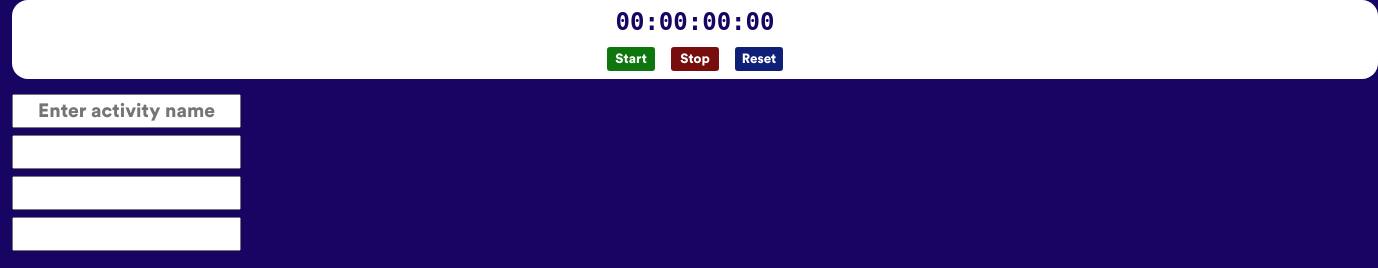
Test: <Stopwatch /> › stopwatch runs
Expected: the text with test id "elapsed" reads "00:00:00:00", [616,8,775,36]
Click the button with test id "start" at point(631, 59), box [607,47,655,71]
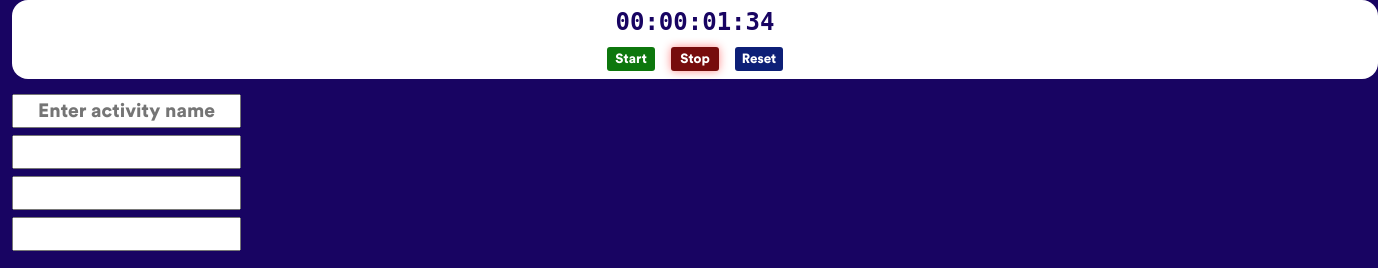
Expected: the text with test id "elapsed" no longer shows "00:00:00:00"
Double-click the button with test id "stop" at point(695, 59), box [671,47,719,71]
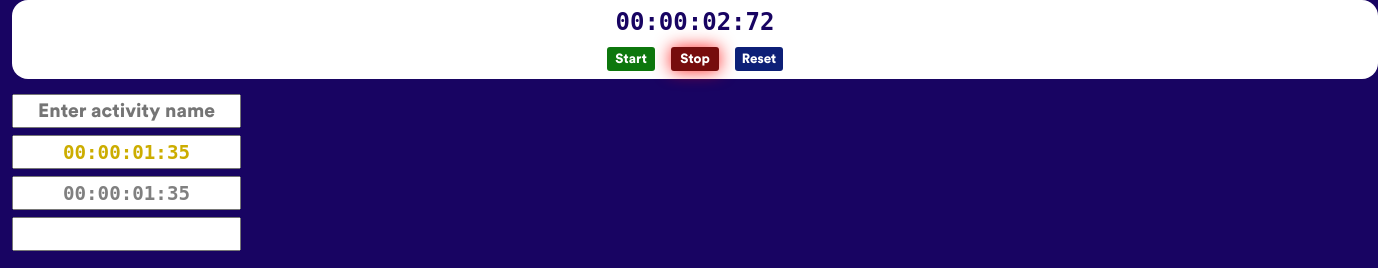
Click the button with test id "stop" at point(695, 59), box [671,47,719,71]
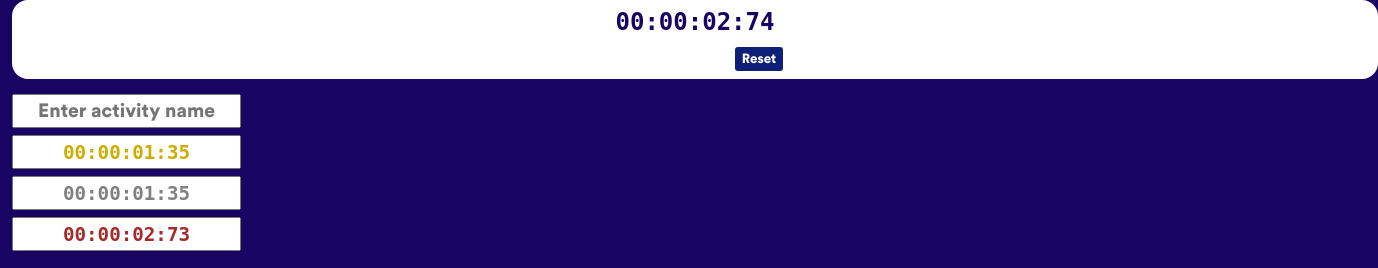
Click the button with test id "reset" at point(759, 59), box [735,47,783,71]
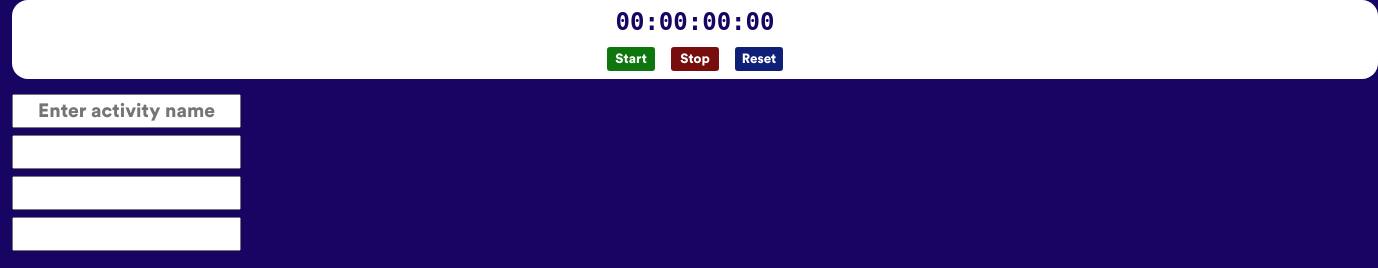
Expected: the text with test id "elapsed" reads "00:00:00:00", [616,8,775,36]
